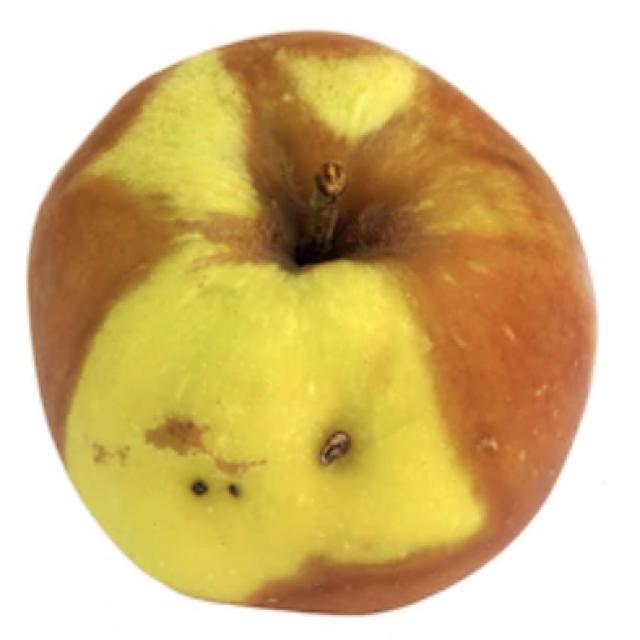Rotten: (22, 25, 600, 625)
